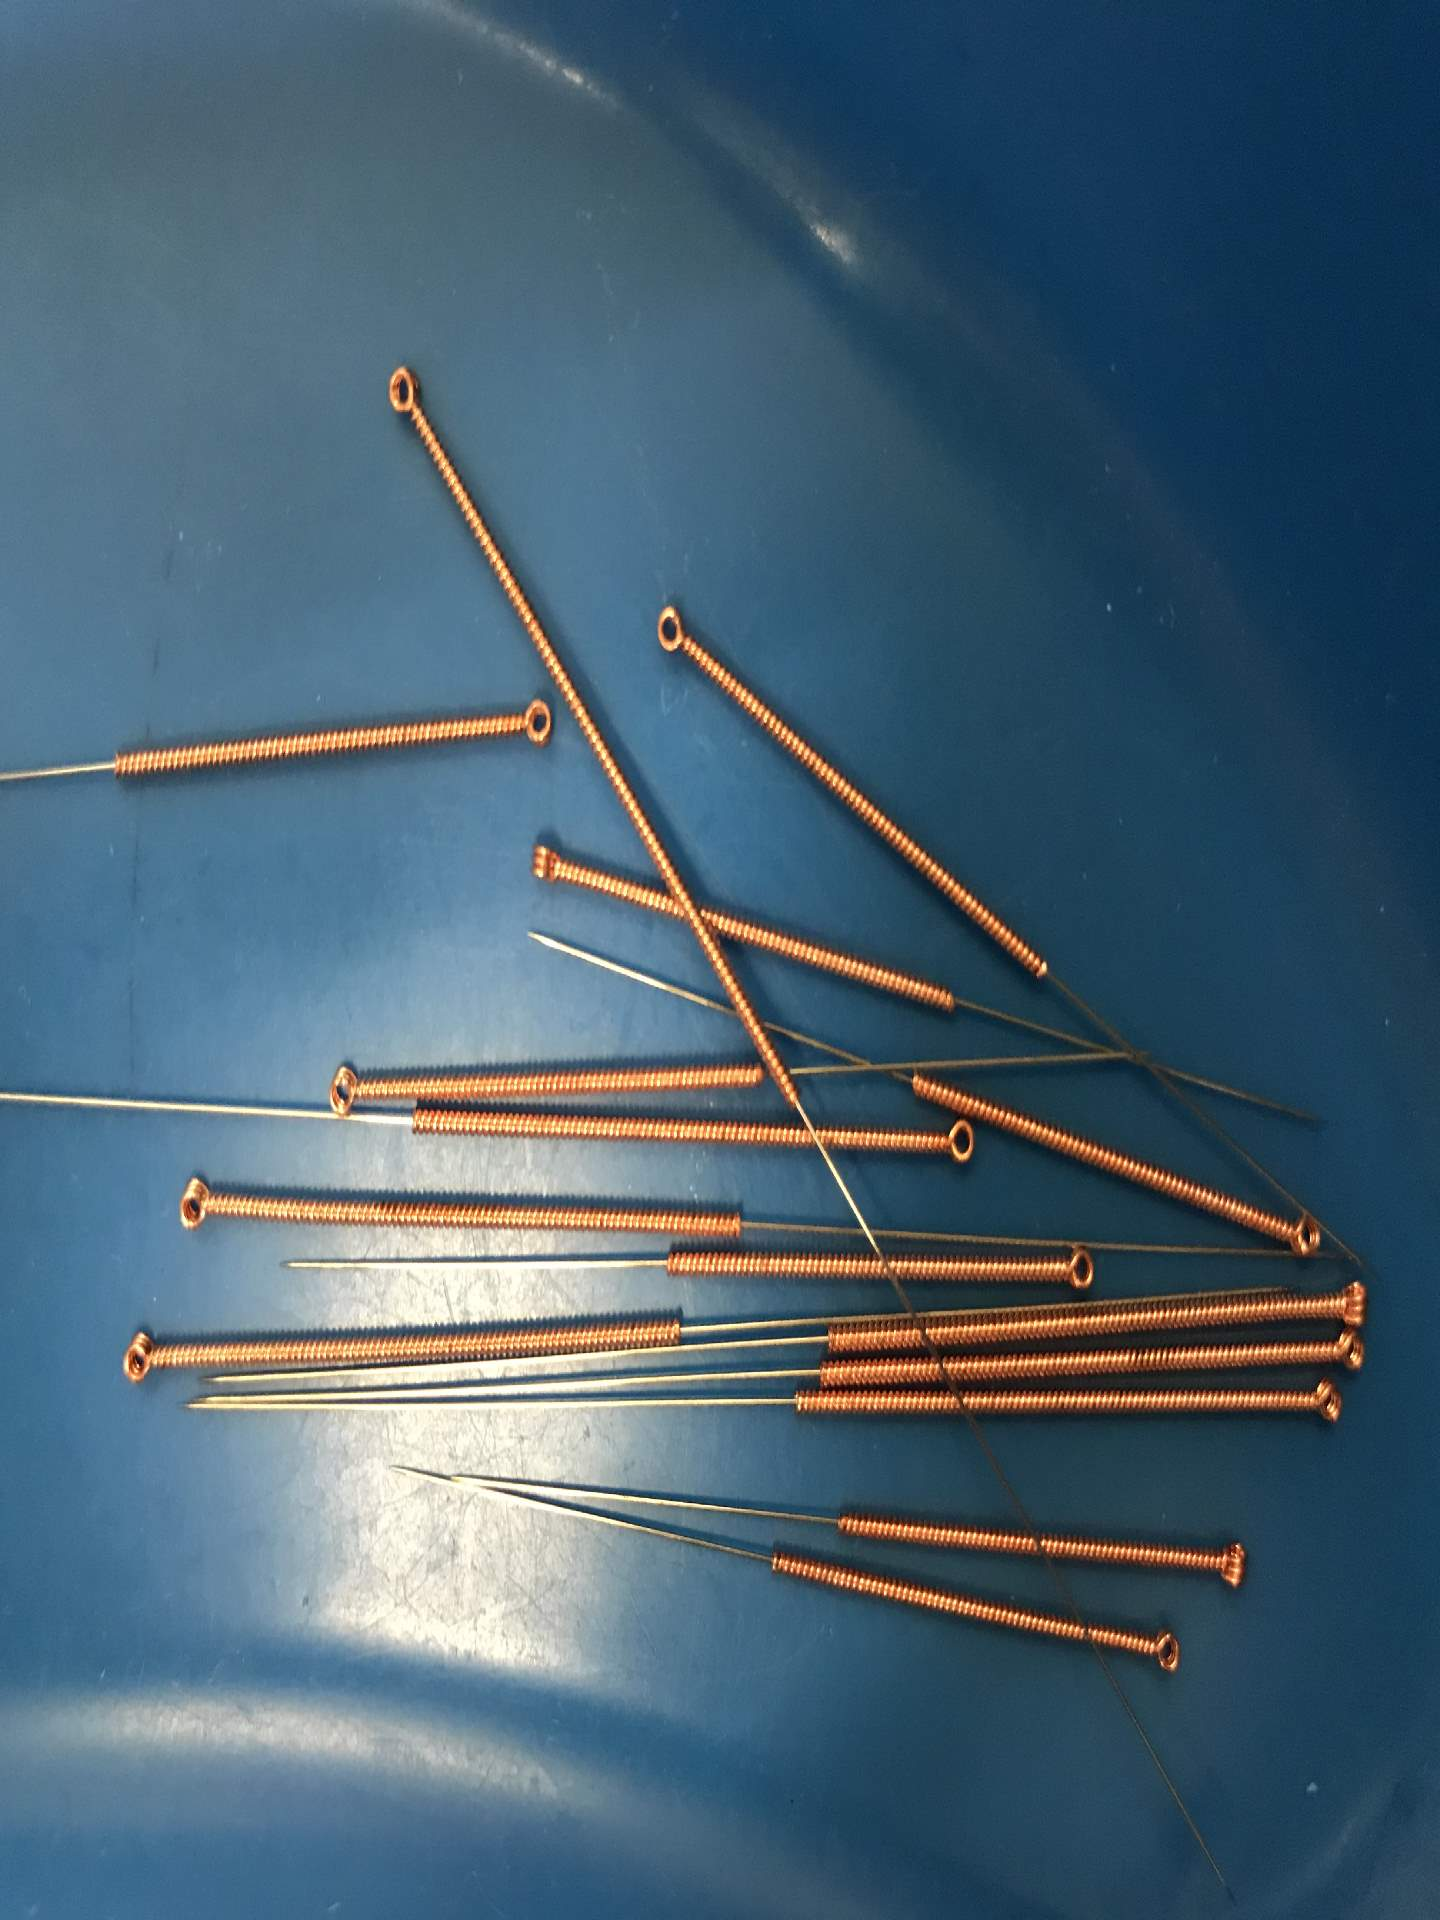needle: (371, 346, 433, 441), (489, 688, 566, 762), (637, 593, 709, 667), (1122, 1616, 1198, 1687), (514, 825, 582, 903), (163, 1166, 230, 1244), (1033, 1240, 1115, 1300), (1190, 1530, 1262, 1596), (1260, 1200, 1333, 1265), (1280, 1377, 1363, 1433), (1305, 1271, 1387, 1327), (106, 1326, 169, 1394), (316, 1048, 371, 1123), (1307, 1327, 1386, 1379), (923, 1113, 985, 1178)
